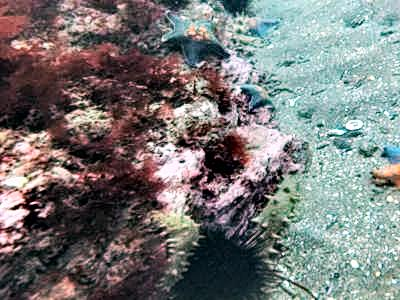urchin: (163, 219, 286, 296)
